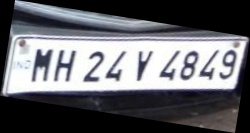character: (30, 46, 52, 83), (52, 48, 75, 81), (82, 49, 104, 83), (105, 49, 127, 83), (158, 48, 180, 81), (198, 47, 220, 80), (134, 48, 153, 80), (178, 50, 198, 80), (218, 46, 236, 79)
